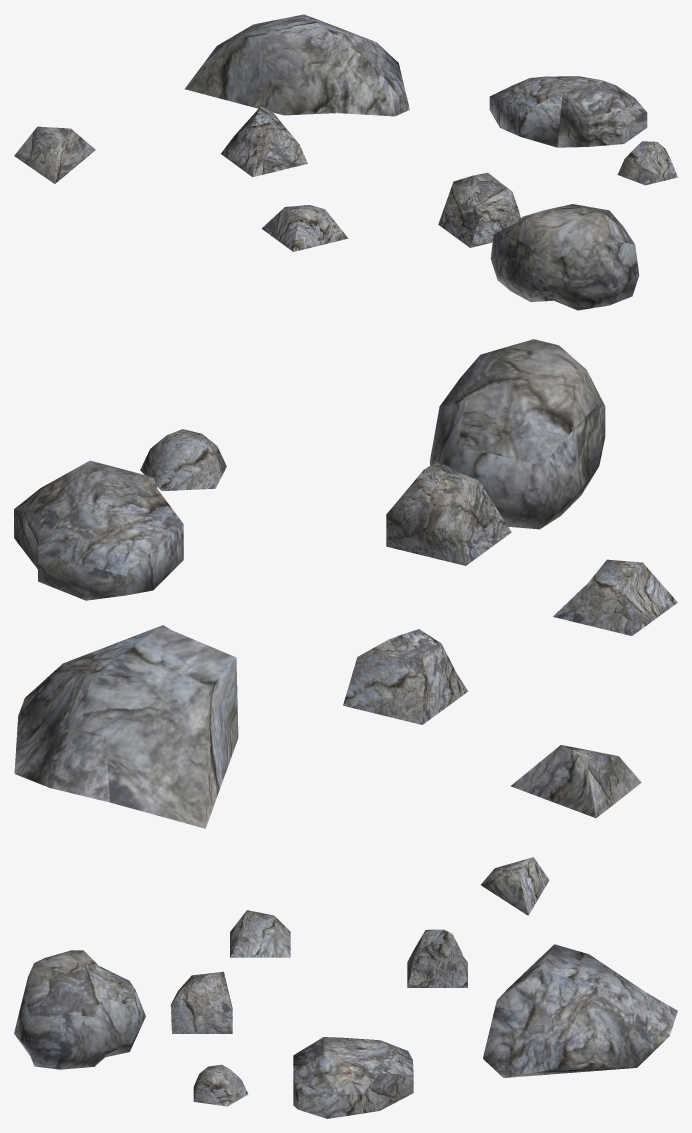
File: TODASpedra.fbx
3 renders of one model, top to bottom at view 1: azimuth 30°, elevation 25°; view 2: azimuth 150°, elevation 25°; view 3: azimuth 270°, elevation 25°, orthographic. The views are drawn at different scales.
Visible parts, largest first — view 1: Material_008-material.004, Material_008-material.006, Material_008-material.005, Material_008-material, Material_008-material.003, Material_008-material.001, Material_008-material.002, Material_008-material.007; view 2: Material_008-material.004, Material_008-material.006, Material_008-material.005, Material_008-material, Material_008-material.003, Material_008-material.002, Material_008-material.001, Material_008-material.007; view 3: Material_008-material.004, Material_008-material.006, Material_008-material.005, Material_008-material, Material_008-material.003, Material_008-material.002, Material_008-material.001, Material_008-material.007.
Boxes of the visible parts, x1=… form: Material_008-material.004: x1=184, y1=14, x2=409, y2=116; Material_008-material.006: x1=490, y1=204, x2=639, y2=310; Material_008-material.005: x1=489, y1=76, x2=647, y2=147; Material_008-material: x1=438, y1=172, x2=520, y2=247; Material_008-material.003: x1=221, y1=106, x2=307, y2=177; Material_008-material.001: x1=14, y1=126, x2=95, y2=183; Material_008-material.002: x1=261, y1=205, x2=348, y2=251; Material_008-material.007: x1=617, y1=141, x2=677, y2=185; Material_008-material.004: x1=14, y1=625, x2=238, y2=828; Material_008-material.006: x1=429, y1=339, x2=605, y2=529; Material_008-material.005: x1=14, y1=460, x2=183, y2=600; Material_008-material: x1=386, y1=461, x2=511, y2=565; Material_008-material.003: x1=343, y1=629, x2=468, y2=724; Material_008-material.002: x1=553, y1=559, x2=677, y2=635; Material_008-material.001: x1=511, y1=745, x2=641, y2=818; Material_008-material.007: x1=140, y1=429, x2=226, y2=490; Material_008-material.004: x1=483, y1=944, x2=677, y2=1077; Material_008-material.006: x1=14, y1=950, x2=145, y2=1069; Material_008-material.005: x1=293, y1=1037, x2=413, y2=1118; Material_008-material: x1=170, y1=971, x2=232, y2=1033; Material_008-material.003: x1=407, y1=929, x2=467, y2=987; Material_008-material.002: x1=230, y1=910, x2=290, y2=957; Material_008-material.001: x1=481, y1=857, x2=549, y2=915; Material_008-material.007: x1=193, y1=1064, x2=248, y2=1106.
Size of the model in its own units: 559 by 92.16 by 672.
1 material, 1 textured.
